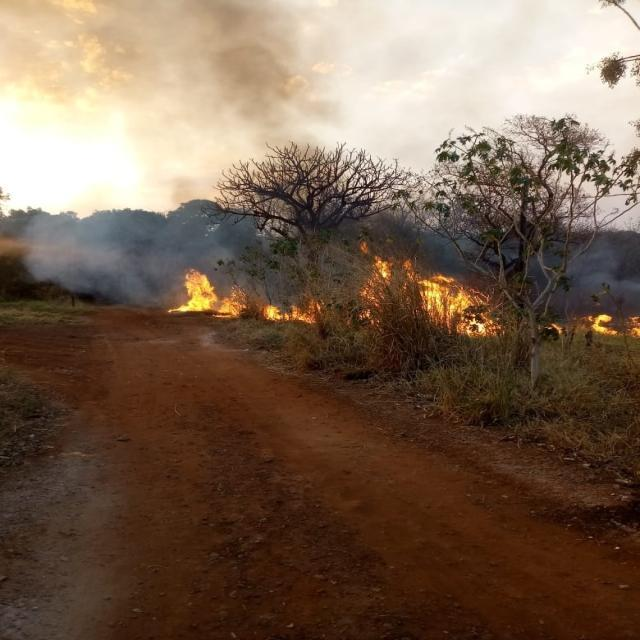Fire: (354, 238, 508, 339), (166, 266, 248, 320), (262, 299, 326, 326), (586, 312, 640, 338), (550, 322, 564, 334)
Smoke: (18, 0, 341, 314), (413, 225, 640, 309)
